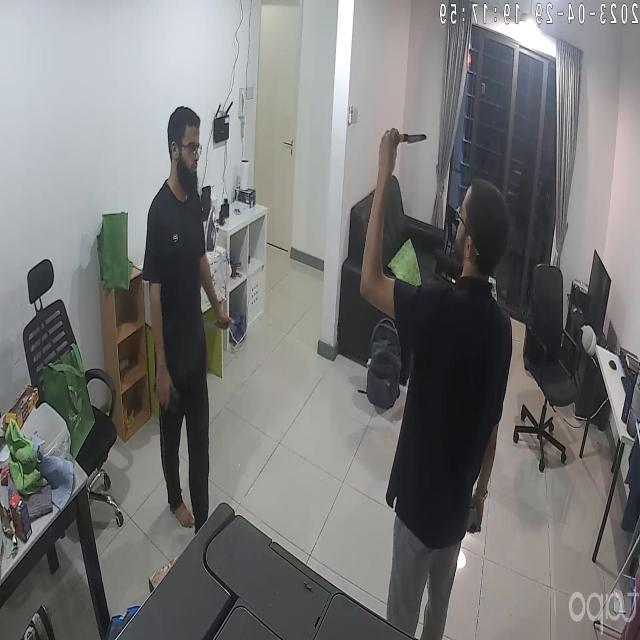Knife: (378, 118, 442, 162)
